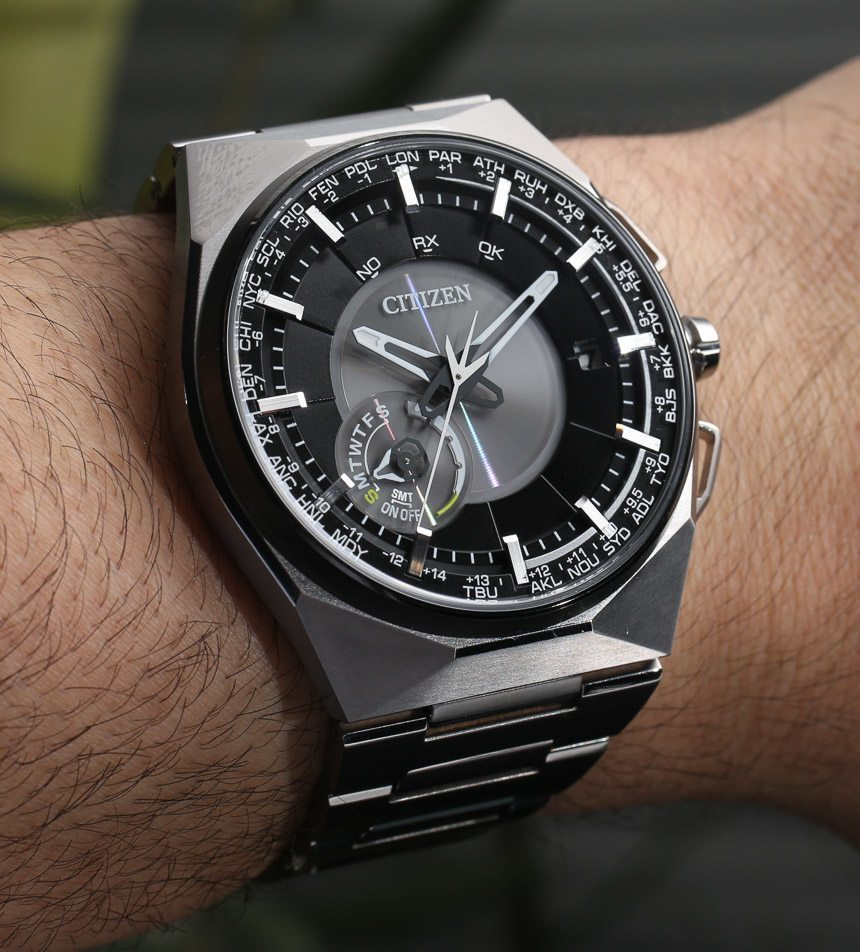clock: (241, 146, 686, 604)
